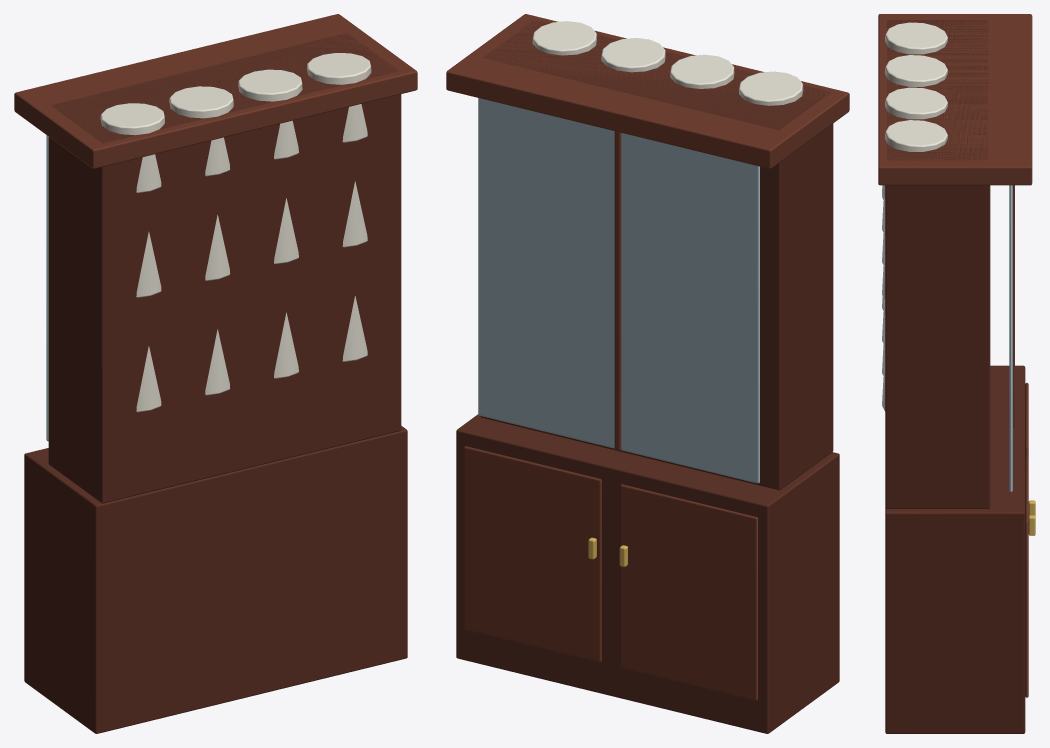
The model's file is SM_PRP_Cristaleira.fbx.
3 renders of one model, left to right at view 1: azimuth 30°, elevation 25°; view 2: azimuth 150°, elevation 25°; view 3: azimuth 270°, elevation 25°, orthographic. The views are drawn at different scales.
Visible parts, largest first — view 1: SM_PRP_Cristaleira; view 2: SM_PRP_Cristaleira; view 3: SM_PRP_Cristaleira.
Boxes of the visible parts, x1,y1,x2,y2 form: SM_PRP_Cristaleira: [14, 14, 417, 733]; SM_PRP_Cristaleira: [446, 14, 849, 733]; SM_PRP_Cristaleira: [878, 14, 1035, 733].
Size of the model in its own units: 1.04 by 1.82 by 0.45.
